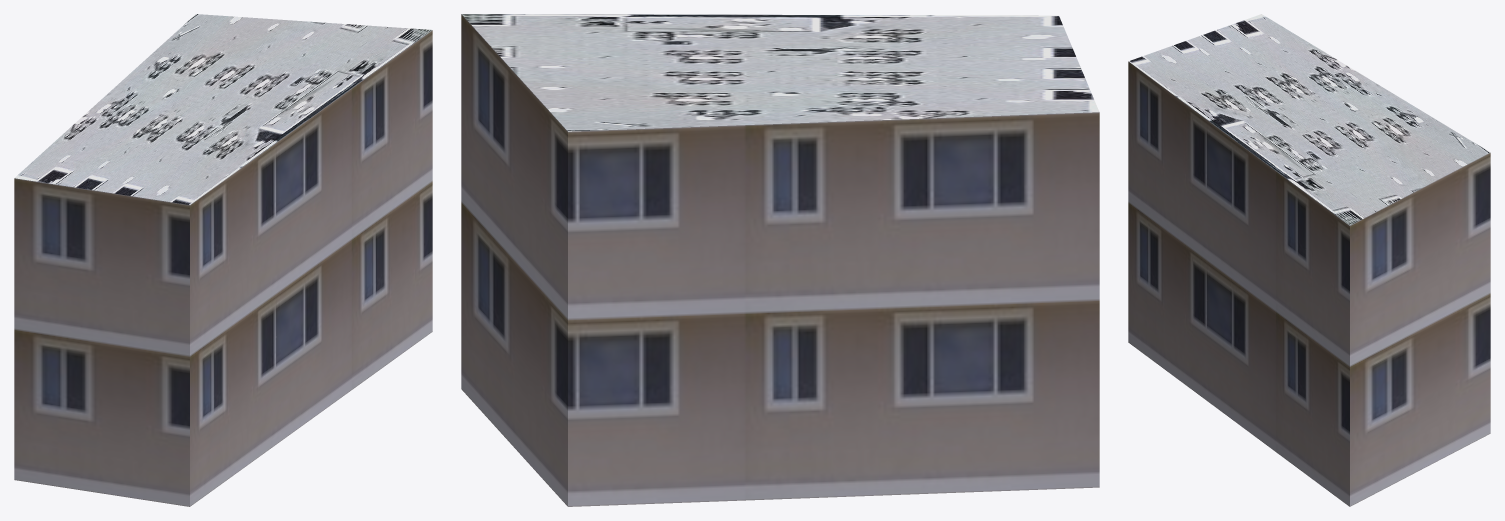
File: ResTex__3575.fbx
3 renders of one model, left to right at view 1: azimuth 30°, elevation 25°; view 2: azimuth 150°, elevation 25°; view 3: azimuth 270°, elevation 25°, orthographic. The views are drawn at different scales.
Visible parts, largest first — view 1: CityEngineMaterial_21_m, CityEngineMaterial_m; view 2: CityEngineMaterial_21_m, CityEngineMaterial_m; view 3: CityEngineMaterial_21_m, CityEngineMaterial_m.
Boxes of the visible parts, x1,y1,x2,y2 form: CityEngineMaterial_21_m: [14, 30, 432, 506]; CityEngineMaterial_m: [14, 14, 431, 204]; CityEngineMaterial_21_m: [461, 14, 1099, 506]; CityEngineMaterial_m: [462, 14, 1099, 131]; CityEngineMaterial_21_m: [1128, 61, 1490, 506]; CityEngineMaterial_m: [1129, 14, 1490, 225].
Bounding box in the file's own units: 9.69 × 6 × 7.
Materials: 2 (2 with a texture image).
